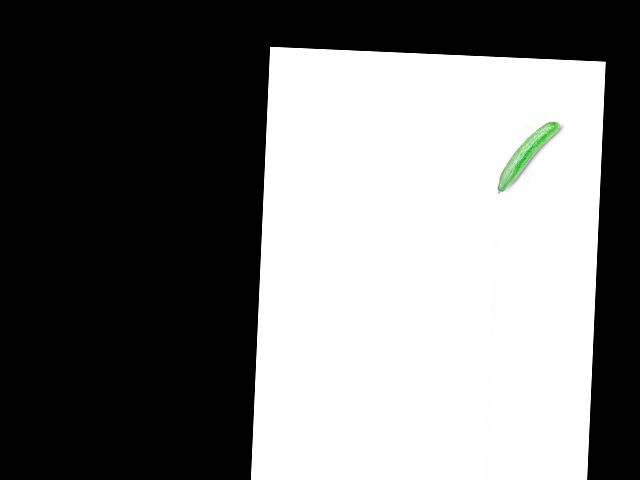cucumber: (497, 119, 561, 197)
